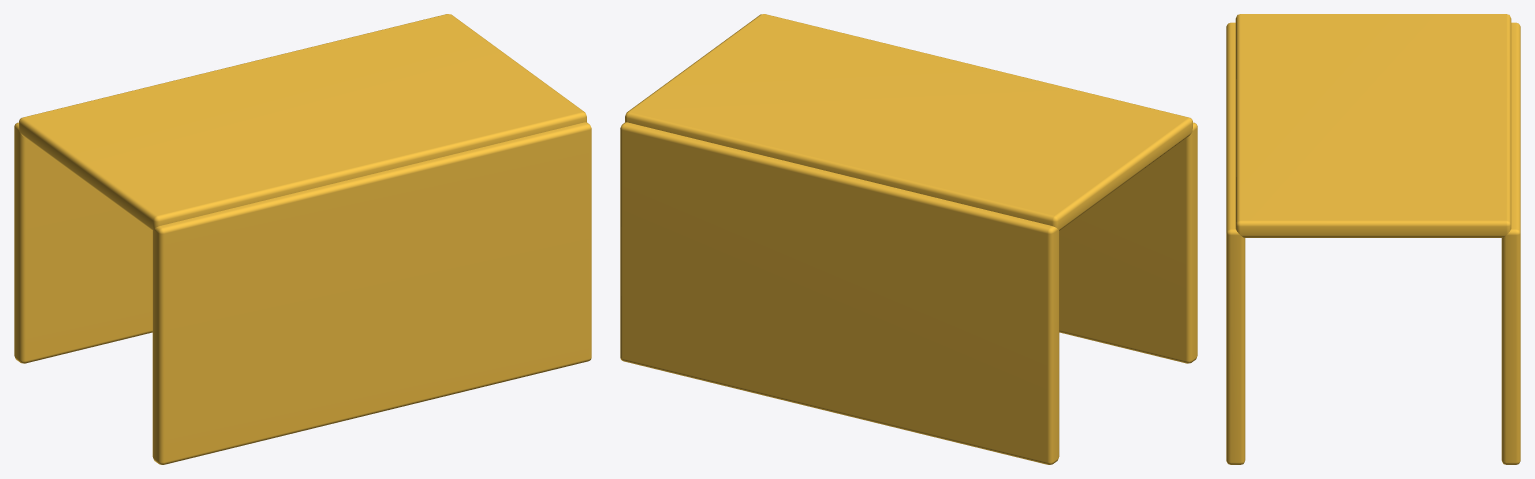
File: Connection_ShaftGuard.fbx
3 views of the same model, side by side, from view 1: azimuth 30°, elevation 25°; view 2: azimuth 150°, elevation 25°; view 3: azimuth 270°, elevation 25° (orthographic).
Visible parts, largest first — view 1: Side, Top, Side.001; view 2: Side.001, Top, Side; view 3: Top, Side, Side.001.
Boxes of the visible parts, left/top/right/bottom form: Side: left=152, top=122, right=591, bottom=464; Top: left=19, top=14, right=586, bottom=230; Side.001: left=14, top=122, right=152, bottom=363; Side.001: left=620, top=122, right=1059, bottom=464; Top: left=625, top=14, right=1192, bottom=230; Side: left=1059, top=122, right=1197, bottom=363; Top: left=1235, top=14, right=1511, bottom=237; Side: left=1226, top=22, right=1245, bottom=464; Side.001: left=1501, top=22, right=1520, bottom=464.
Bounding box in the file's own units: 0.65 × 0.3525 × 0.385.
